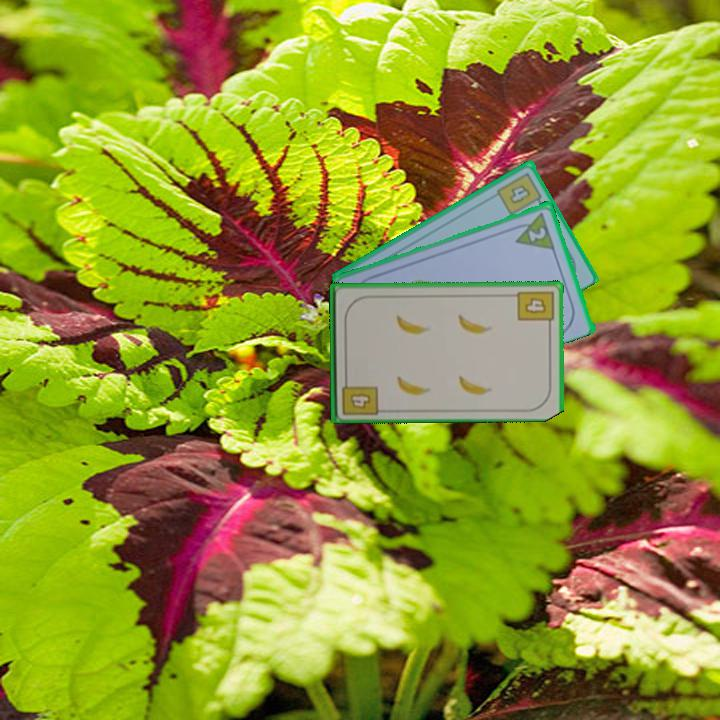2p: (525, 223, 549, 244)
4b: (494, 168, 546, 217), (338, 373, 380, 417), (514, 287, 556, 330)
